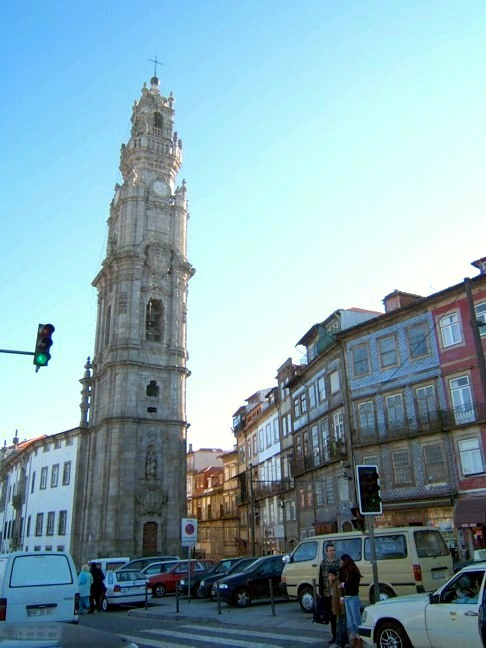clerigos: (80, 57, 196, 559)
